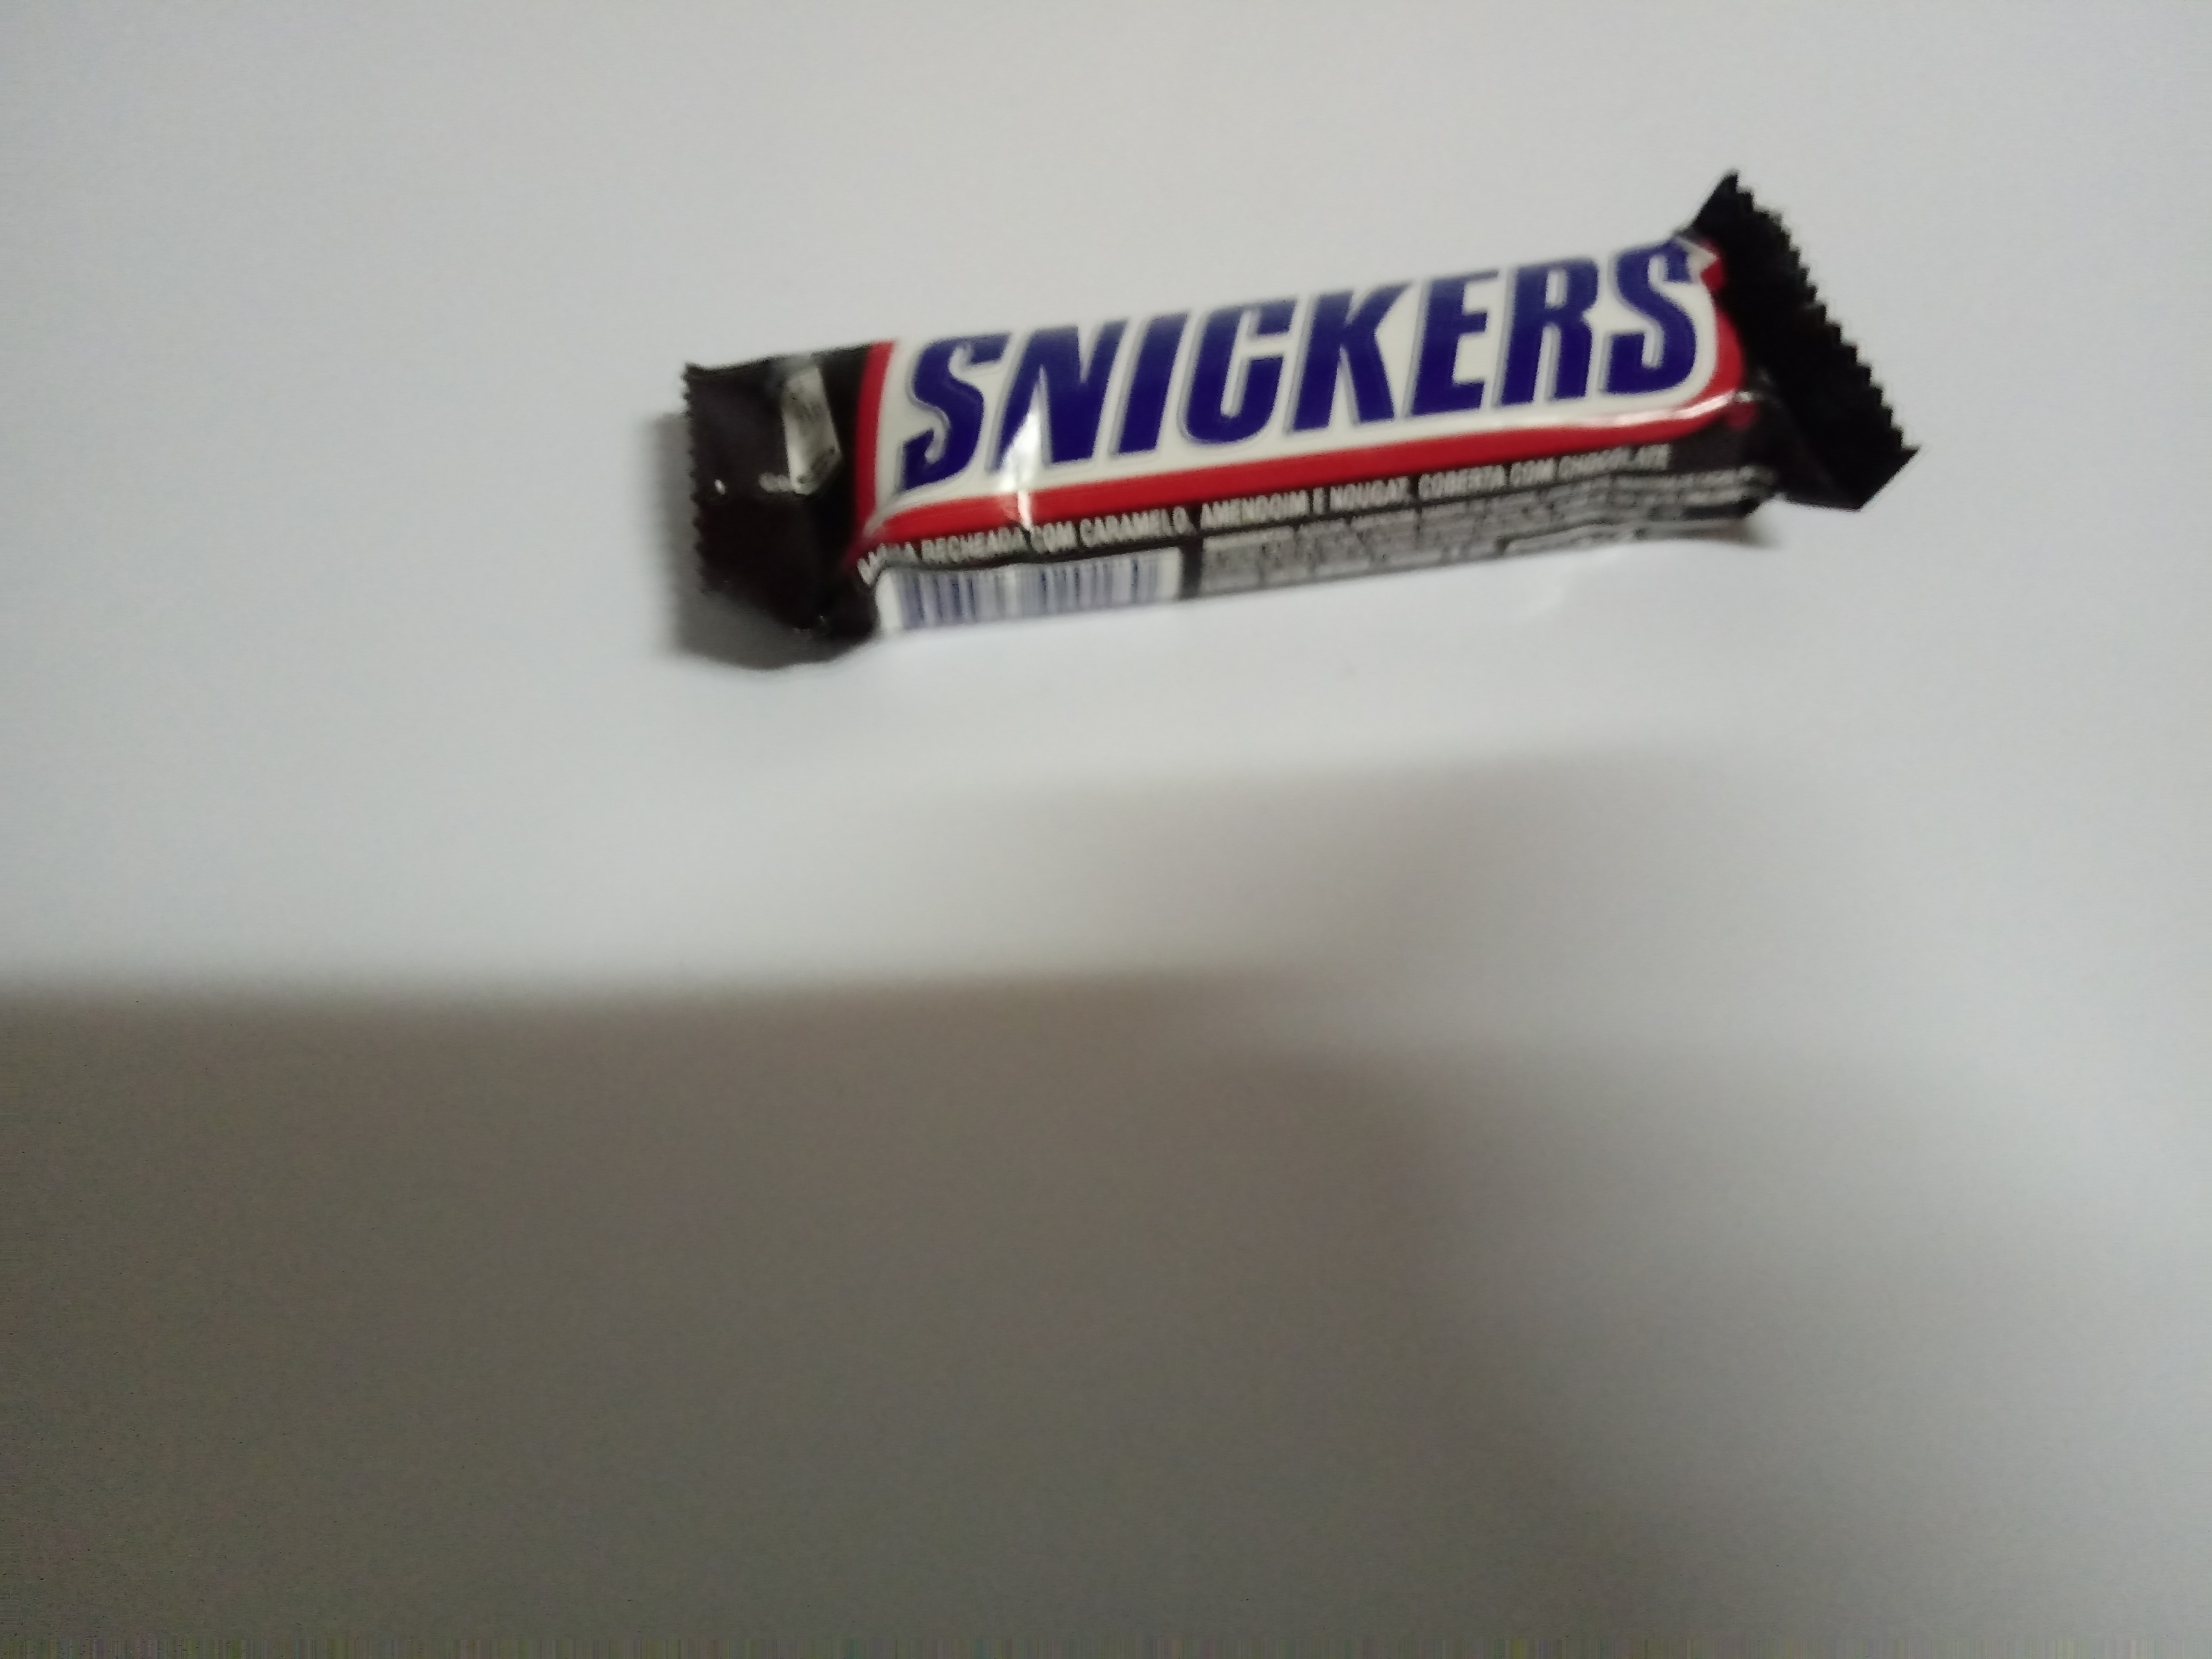snickers: (664, 159, 1949, 669)
